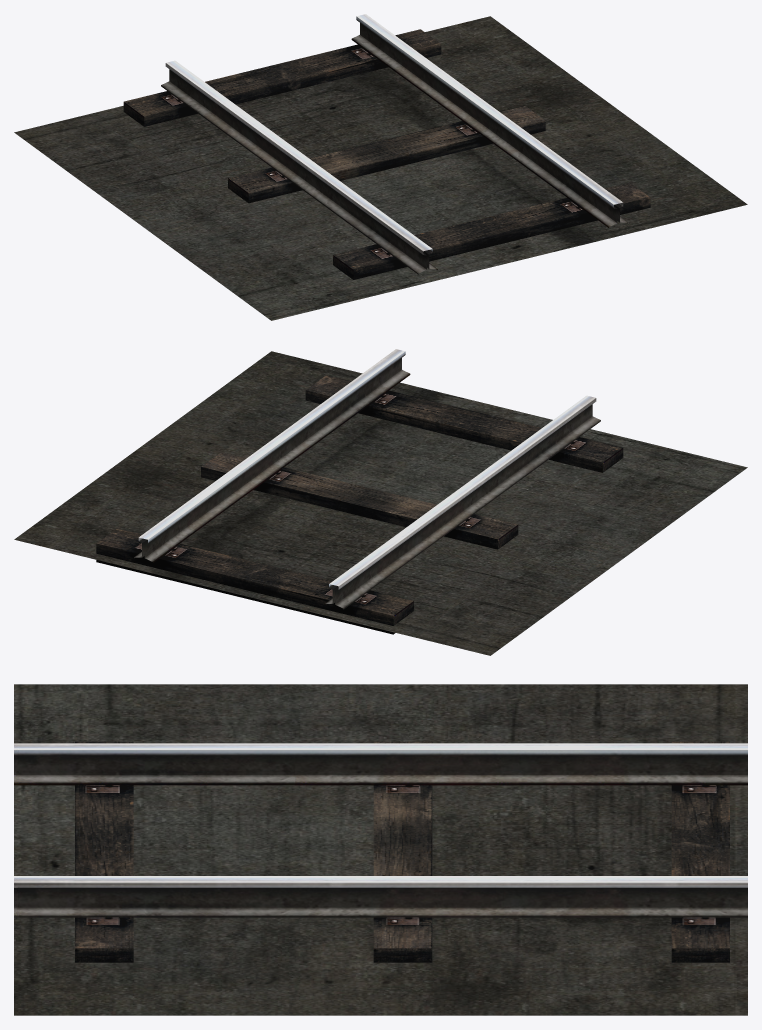
The model's file is TunnelMid.fbx.
The picture shows the model from 3 angles, top to bottom: view 1: azimuth 30°, elevation 25°; view 2: azimuth 150°, elevation 25°; view 3: azimuth 270°, elevation 25°; orthographic projection. The views are drawn at different scales.
Parts seen in each view (by area): view 1: TunnelMid; view 2: TunnelMid; view 3: TunnelMid.
Part boxes in pixels (bbox=[...]): TunnelMid: bbox=[14, 14, 747, 320]; TunnelMid: bbox=[14, 349, 747, 655]; TunnelMid: bbox=[14, 684, 747, 1015].
Size of the model in its own units: 401 by 33.02 by 375.
